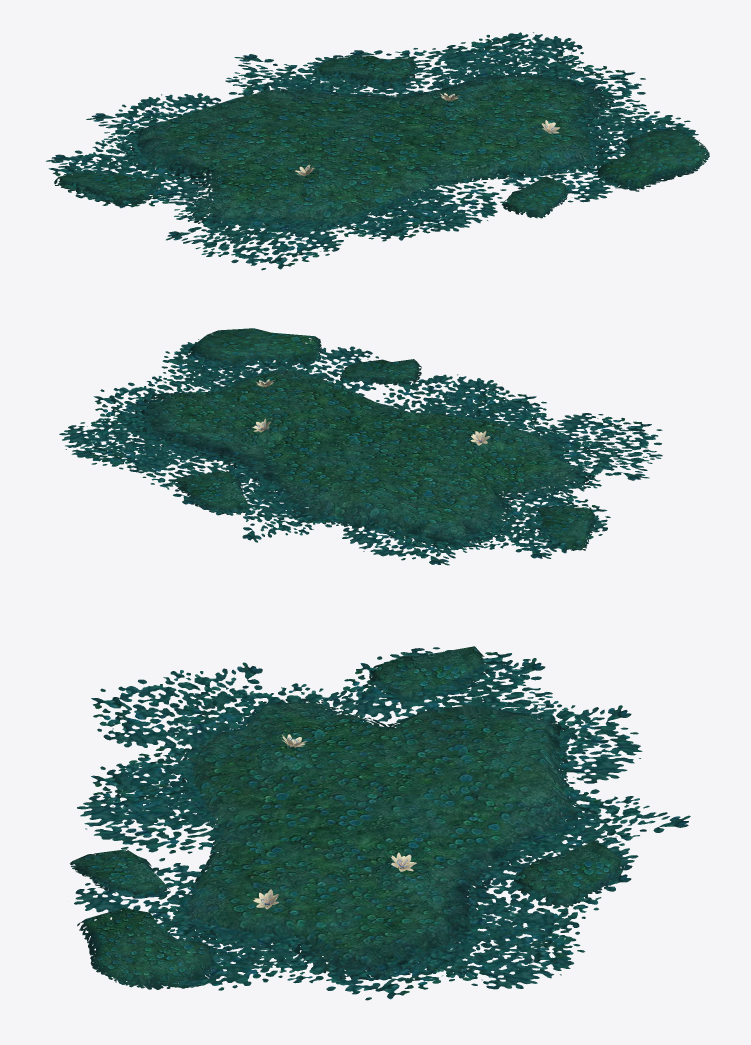
The picture shows the model from 3 angles, top to bottom: view 1: azimuth 30°, elevation 25°; view 2: azimuth 150°, elevation 25°; view 3: azimuth 270°, elevation 25°; orthographic projection. The views are drawn at different scales.
Bounding box in the file's own units: 9.17 × 0.3997 × 6.72.
Materials: 2 (2 with a texture image).
